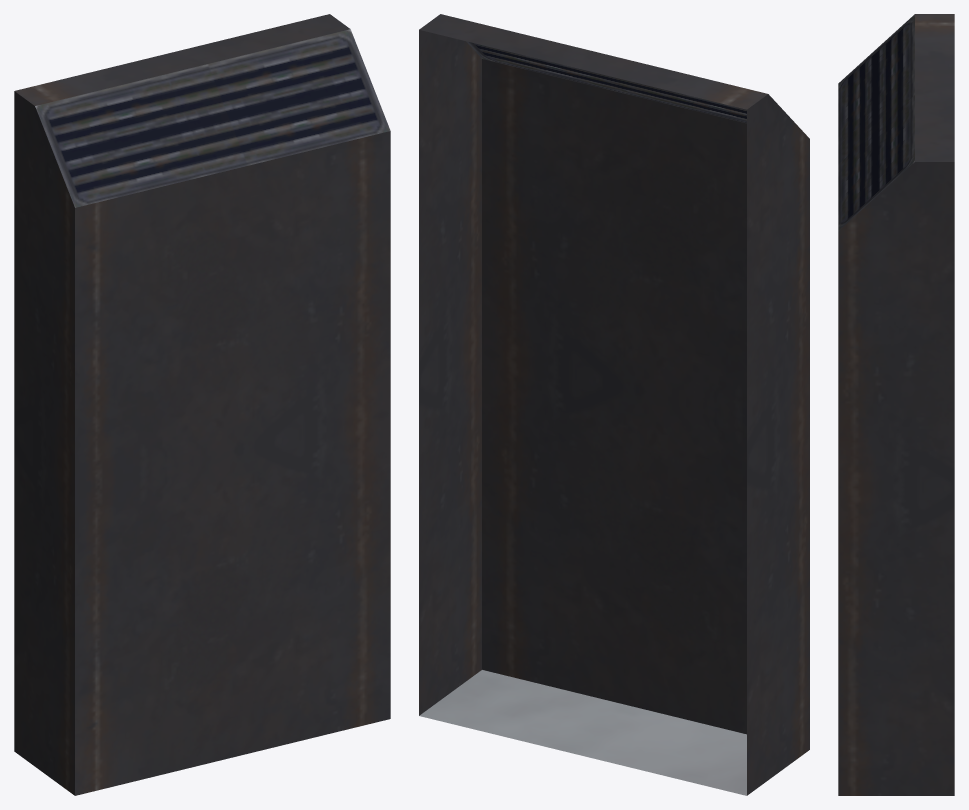
The model's file is MESH_EXTERNAL_EXAUSTOR.fbx.
The picture shows the model from 3 angles, left to right: view 1: azimuth 30°, elevation 25°; view 2: azimuth 150°, elevation 25°; view 3: azimuth 270°, elevation 25°; orthographic projection. The views are drawn at different scales.
Visible parts, largest first — view 1: MESH_EXTERNAL_EXAUSTOR; view 2: MESH_EXTERNAL_EXAUSTOR; view 3: MESH_EXTERNAL_EXAUSTOR.
Part boxes in pixels (box(x1,y1,x2,y2)): MESH_EXTERNAL_EXAUSTOR: box(14, 14, 390, 795); MESH_EXTERNAL_EXAUSTOR: box(419, 14, 809, 795); MESH_EXTERNAL_EXAUSTOR: box(838, 14, 954, 795).
Size of the model in its own units: 3 by 6 by 1.
